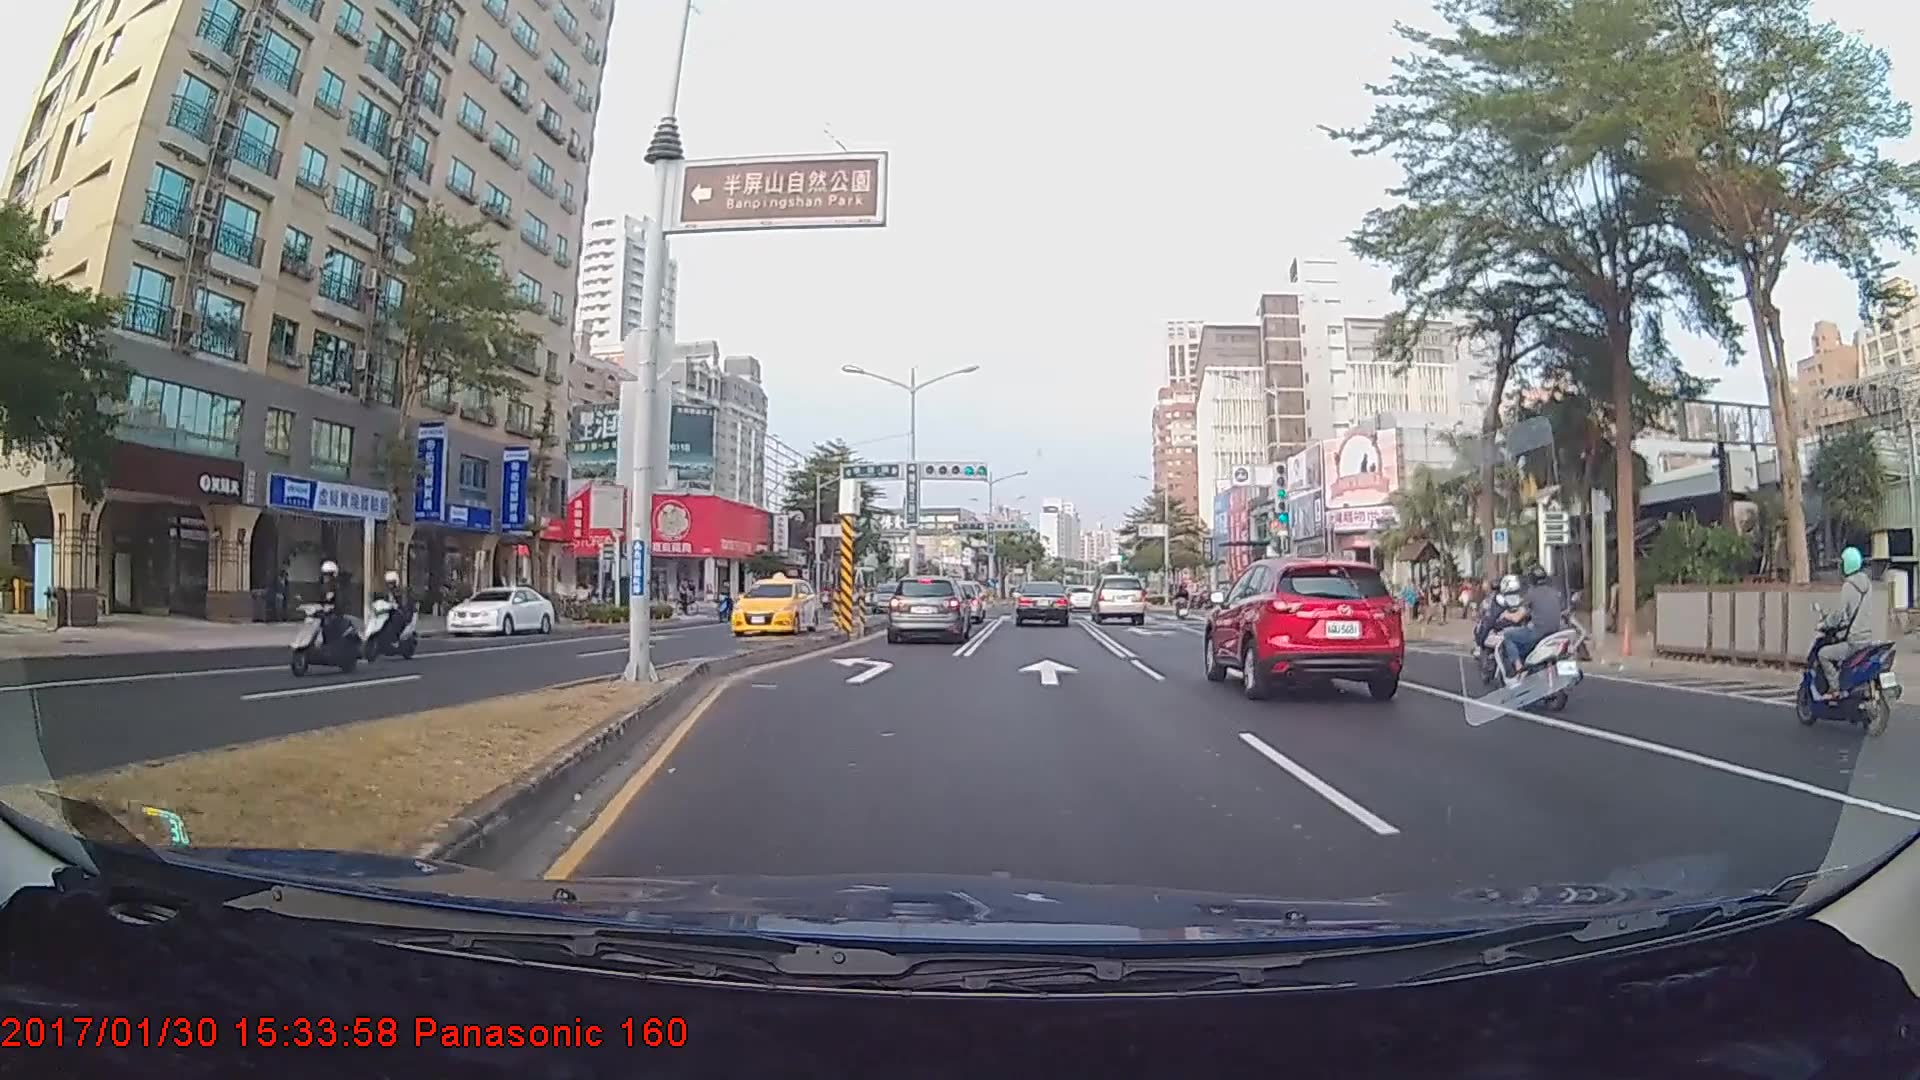rider: (1793, 543, 1910, 738), (1489, 562, 1591, 714), (283, 561, 366, 679), (353, 571, 418, 667)
vehicle: (1208, 553, 1406, 698), (884, 576, 969, 644), (731, 571, 819, 634), (446, 584, 554, 636), (1089, 574, 1146, 625), (1012, 580, 1069, 627)
